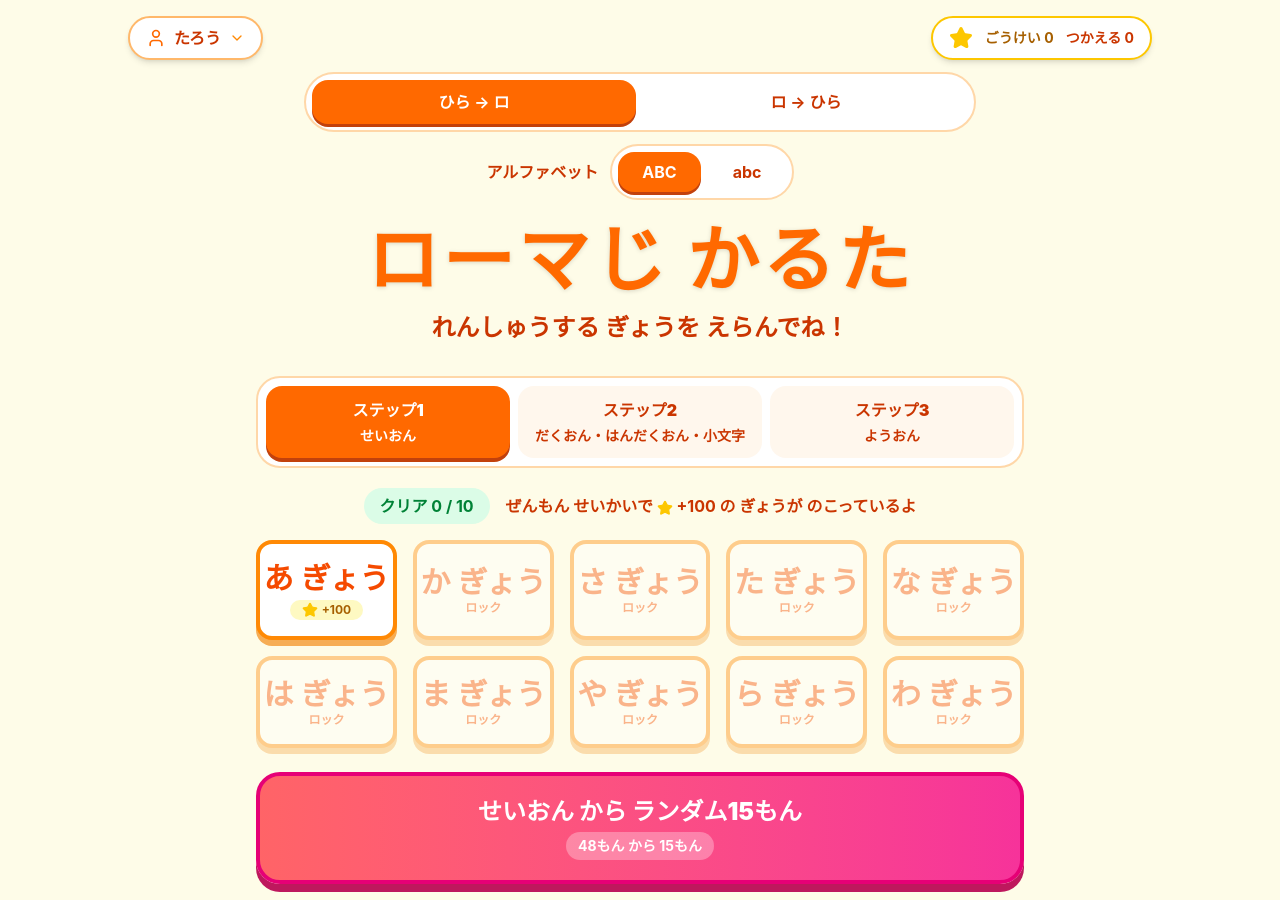
Test: <App /> async boot › clears old progress while switching students and does not reuse it on failure
The width and height of the screenshot is (1280, 900).
Check: the heading "ローマじ かるた" is shown, box [366, 224, 914, 296]
Click the button "たろう" at (196, 38), box [128, 16, 263, 60]
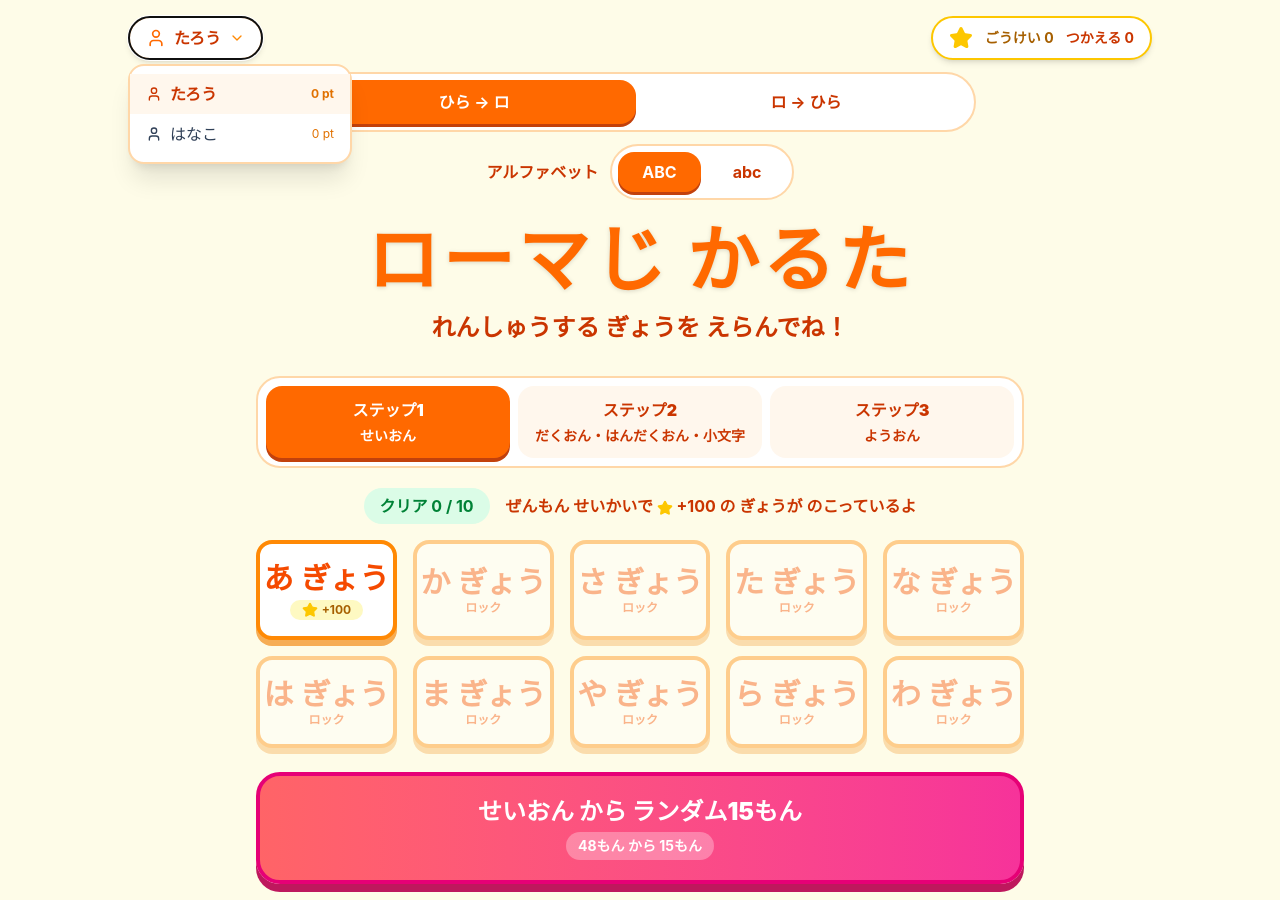
Click the button "はなこ 0 pt" at (240, 134), box [130, 114, 350, 154]
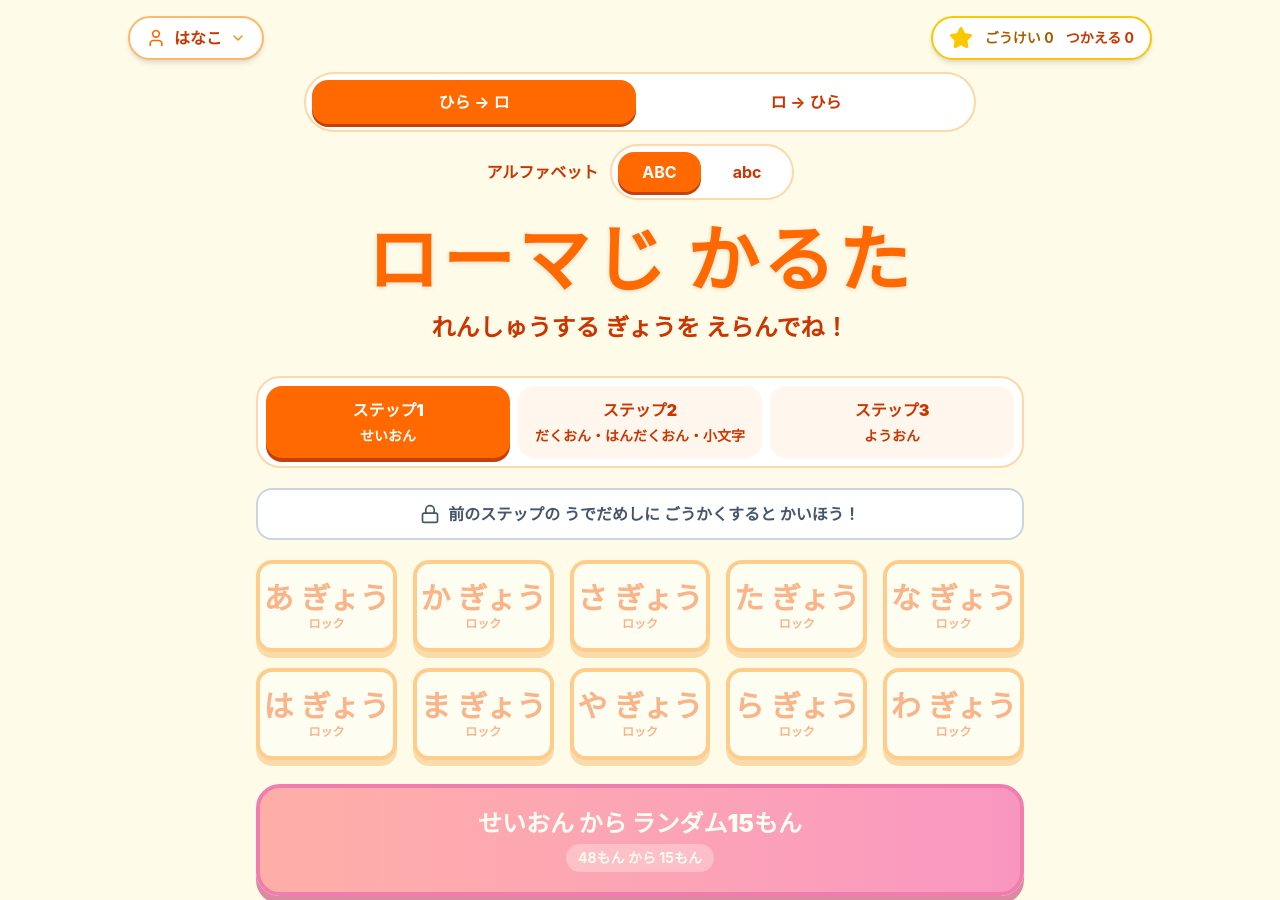
Check: the text "はなこ" is shown, box [174, 26, 222, 50]
Check: the button "あ ぎょう ロック" is disabled, box [256, 560, 397, 652]
